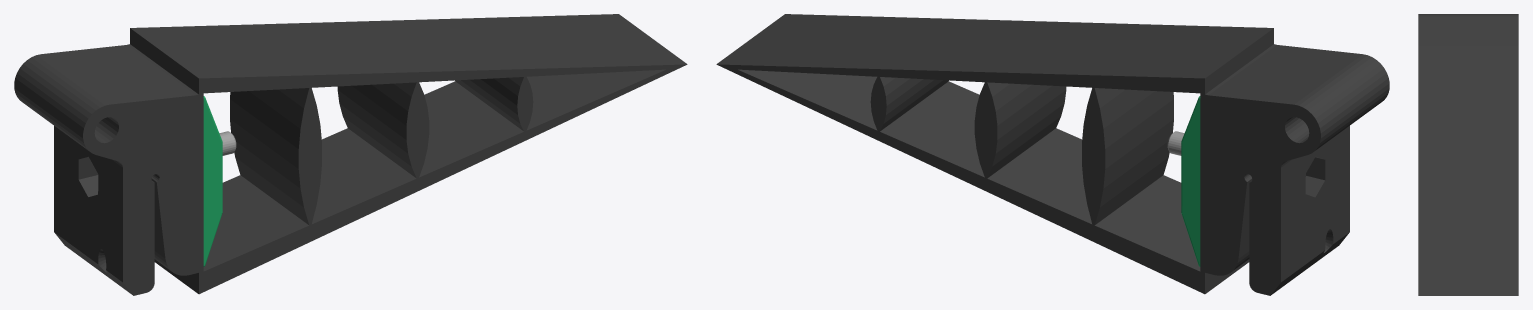
3 renders of one model, left to right at view 1: azimuth 30°, elevation 25°; view 2: azimuth 150°, elevation 25°; view 3: azimuth 270°, elevation 25°, orthographic. The views are drawn at different scales.
Parts seen in each view (by area): view 1: Mesh3 skpE787_1 Model, Mesh4 skpE787_1 Model, Mesh5 skpE787_1 Model; view 2: Mesh3 skpE787_1 Model, Mesh4 skpE787_1 Model, Mesh5 skpE787_1 Model; view 3: Mesh3 skpE787_1 Model, Mesh4 skpE787_1 Model.
Boxes of the visible parts, bbox=[...] form: Mesh3 skpE787_1 Model: bbox=[127, 14, 687, 294]; Mesh4 skpE787_1 Model: bbox=[14, 45, 195, 295]; Mesh5 skpE787_1 Model: bbox=[203, 96, 222, 266]; Mesh3 skpE787_1 Model: bbox=[716, 14, 1276, 294]; Mesh4 skpE787_1 Model: bbox=[1208, 45, 1389, 295]; Mesh5 skpE787_1 Model: bbox=[1181, 96, 1200, 266]; Mesh3 skpE787_1 Model: bbox=[1418, 45, 1518, 295]; Mesh4 skpE787_1 Model: bbox=[1418, 14, 1518, 45].
Size of the model in its own units: 152 by 51.87 by 30.
Materials: 4 (3 with a texture image).
